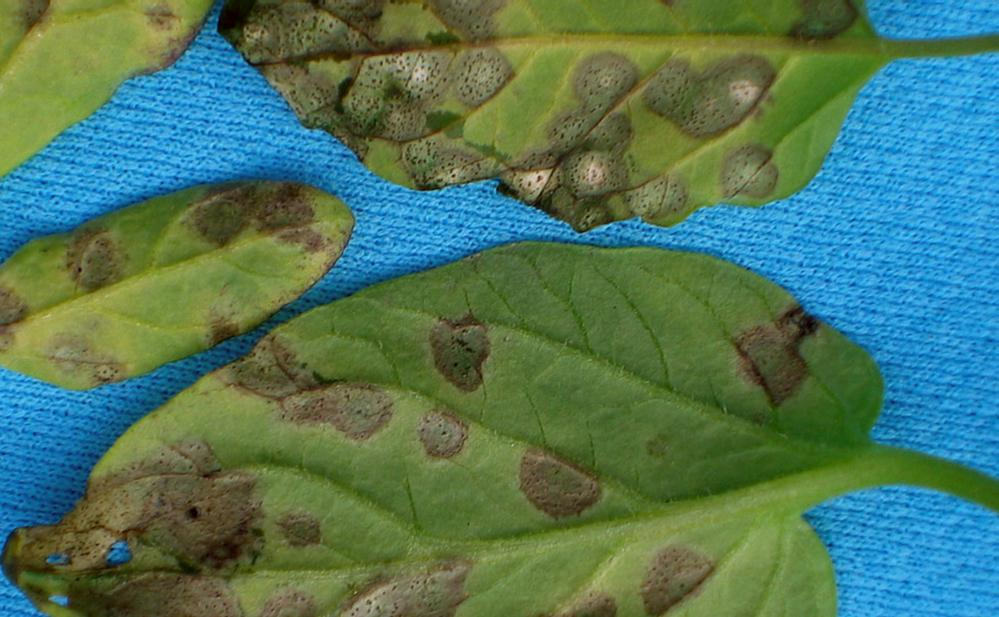Tomato Septoria leaf spot: (0, 234, 916, 617), (194, 0, 987, 233), (0, 172, 368, 395), (0, 0, 215, 231)
